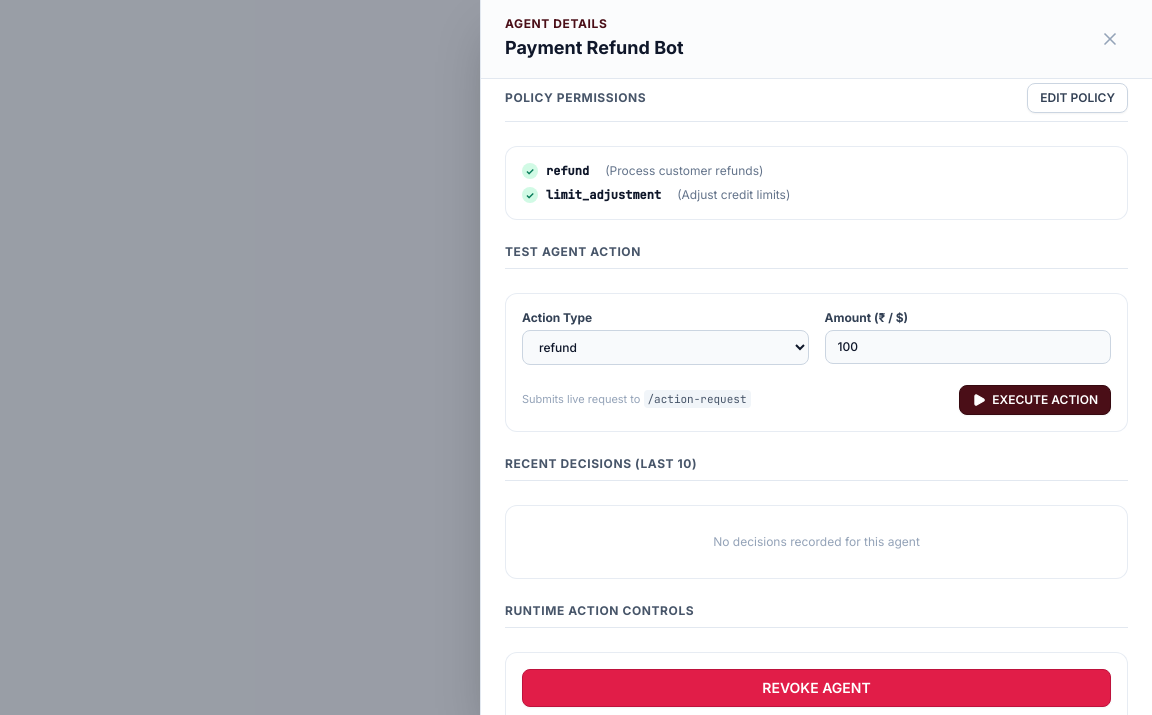
Test: AgentDrawer › Test Agent Action section › pre-populates defaults and executes action successfully
(page scrolled)
Check: the heading "TEST AGENT ACTION" is shown, box [505,244,641,260]
Check: the dropdown named "Action Type" shows "refund", box [522,330,808,364]
Click the button "EXECUTE ACTION" at (1035, 400), box [959,384,1111,414]
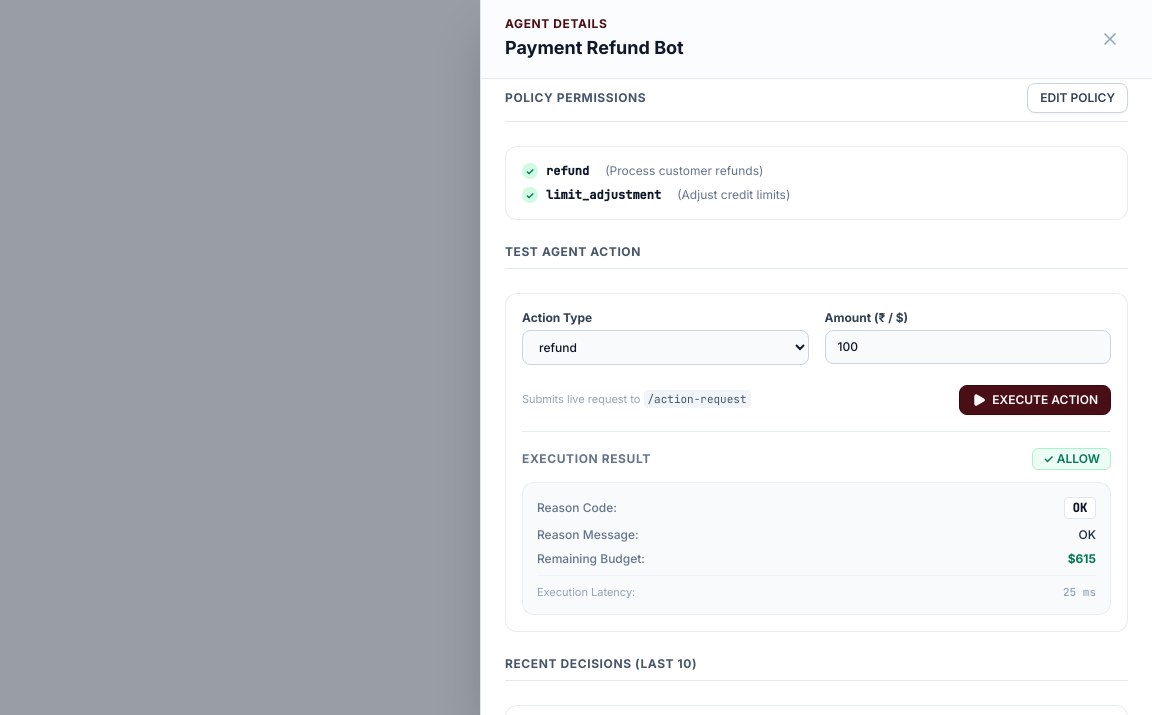
Check: the text "✓ ALLOW" is shown, box [1032,448,1111,470]
